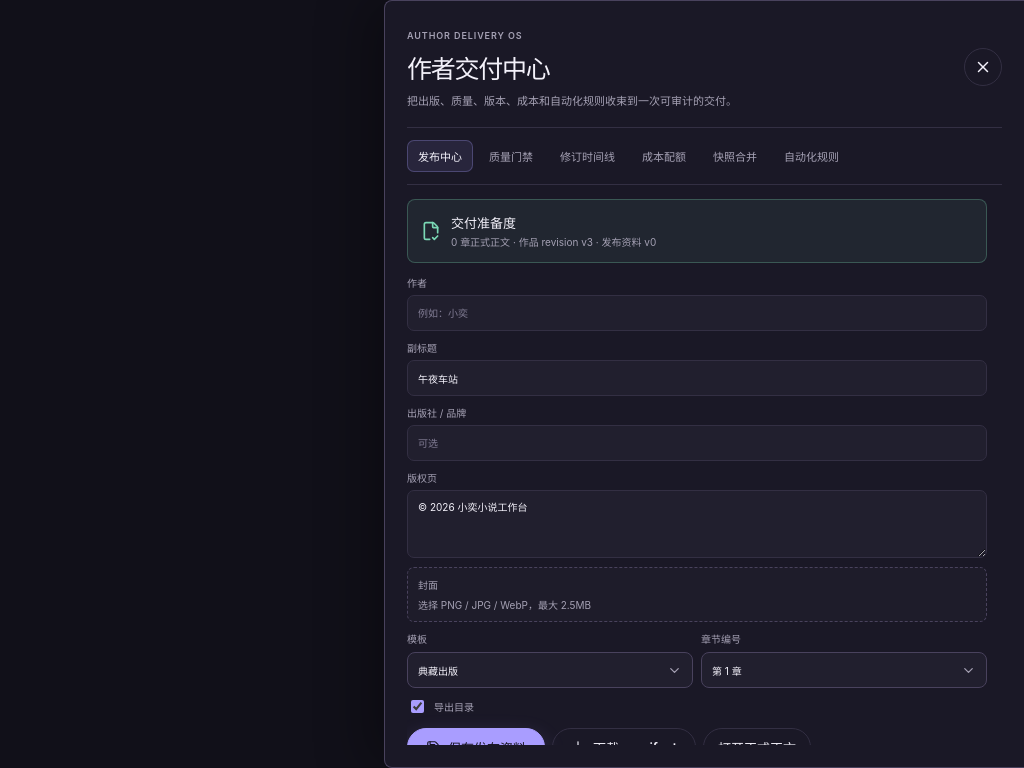
it: AuthorDeliveryCenterPanel › uses authoritative quality, quota, automation and revision APIs when available
The image size is (1024, 768).
Expected: the text "交付准备度" is shown, [451,215,516,231]
Click the button "修订时间线".
click(588, 156)  # box [549,140,626,172]
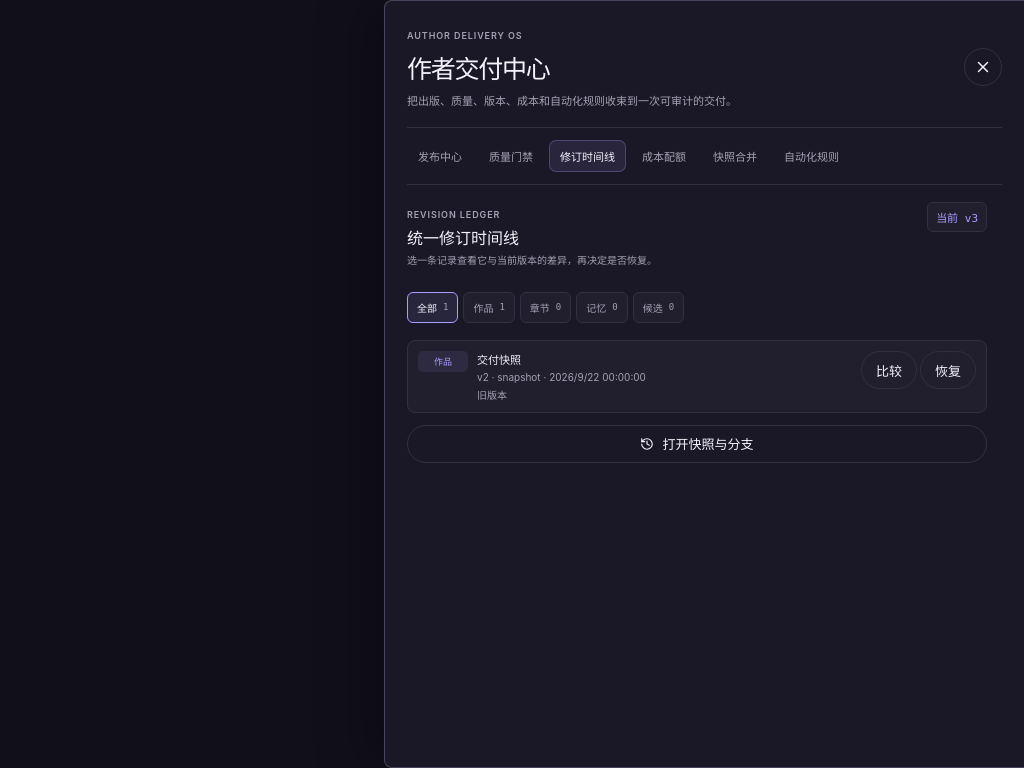
Click the button "比较".
click(889, 370)  # box [861,351,917,389]
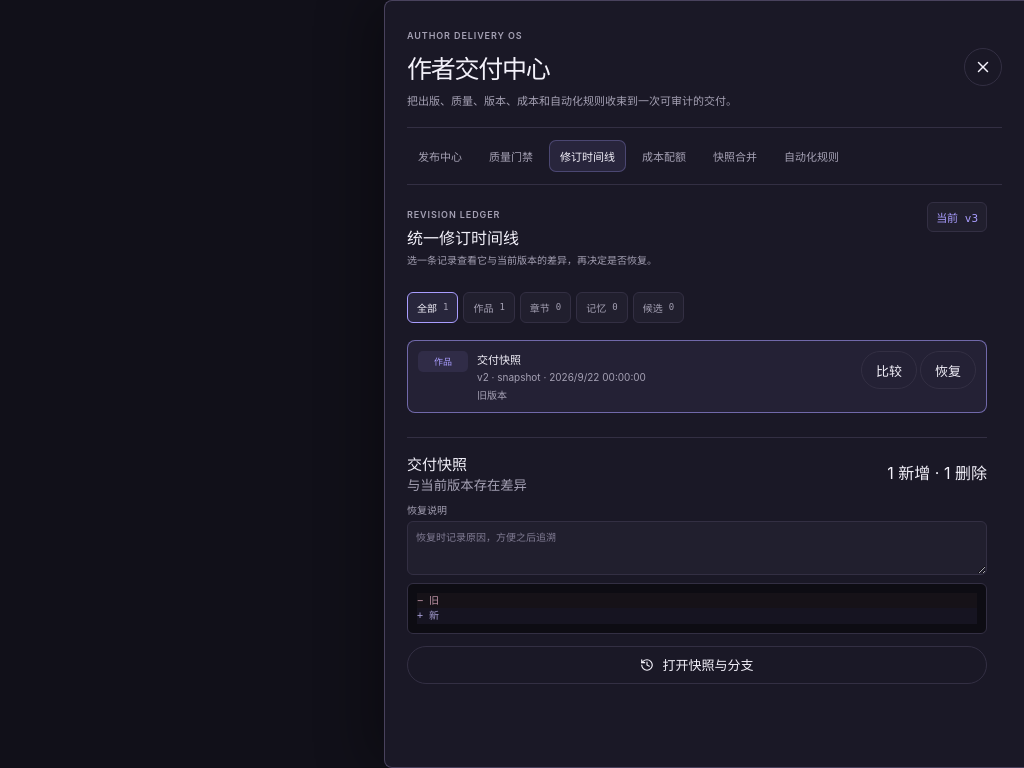
Expected: the text "+ 新" is shown, [417,608,977,624]
Click the button "成本配额".
click(664, 156)  # box [631,140,697,172]
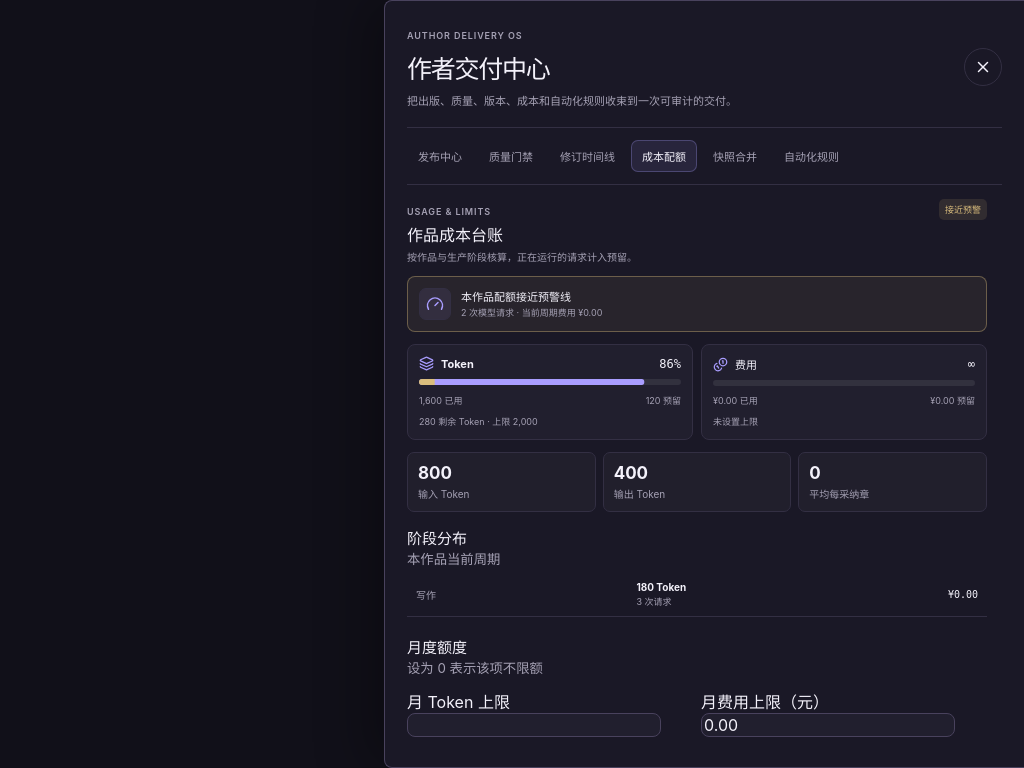
Expected: the text "本作品配额接近预警线" is shown, [461,290,571,304]
Expected: the text "120 预留" is shown, [646,394,681,407]
Expected: the text "写作" is shown, [416,589,436,601]
Click the button "自动化规则".
click(812, 156)  # box [773,140,850,172]
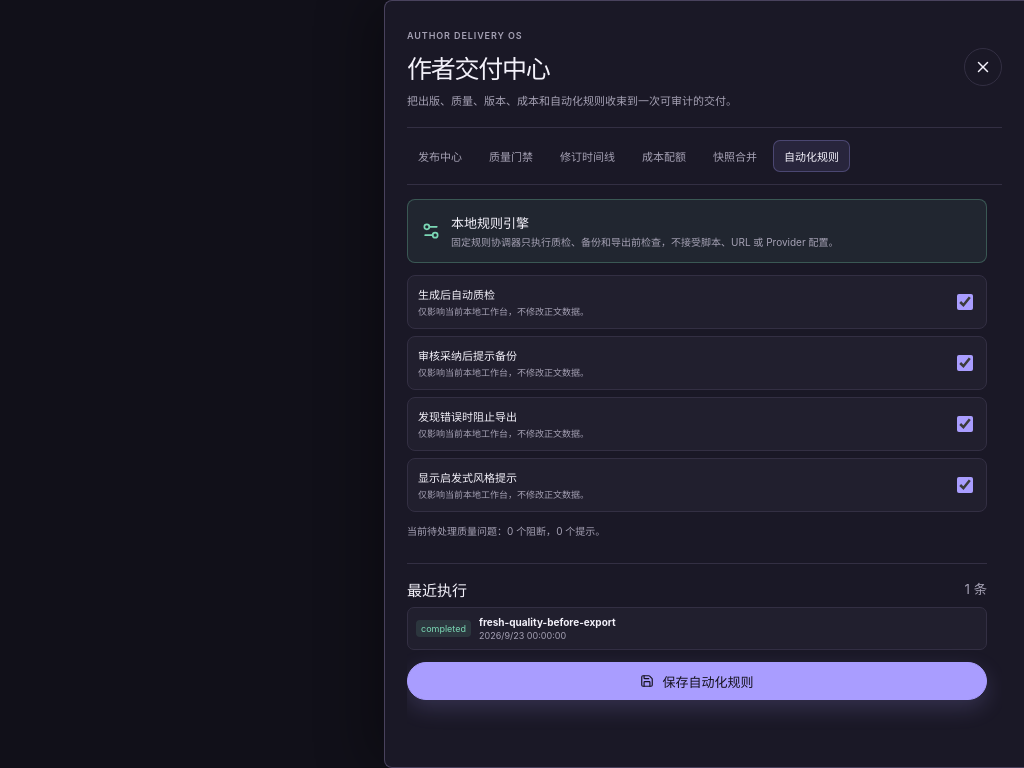
Expected: the text "fresh-quality-before-export" is shown, [479,616,616,628]
